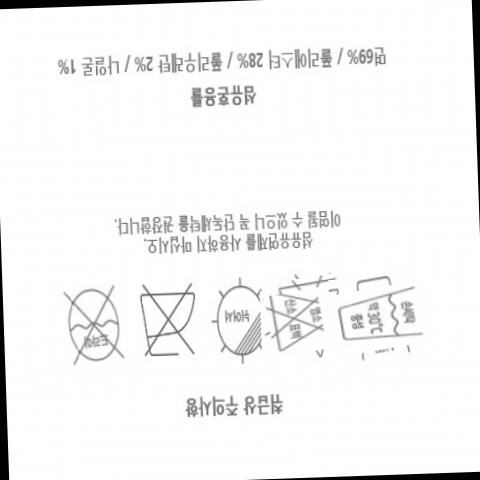DN_bleach: (268, 287, 328, 356)
DN_dry_clean: (63, 280, 130, 364)
DN_iron: (136, 287, 203, 360)
dry_flat_in_shade: (212, 279, 266, 363)
hand_wash: (338, 284, 429, 344)
